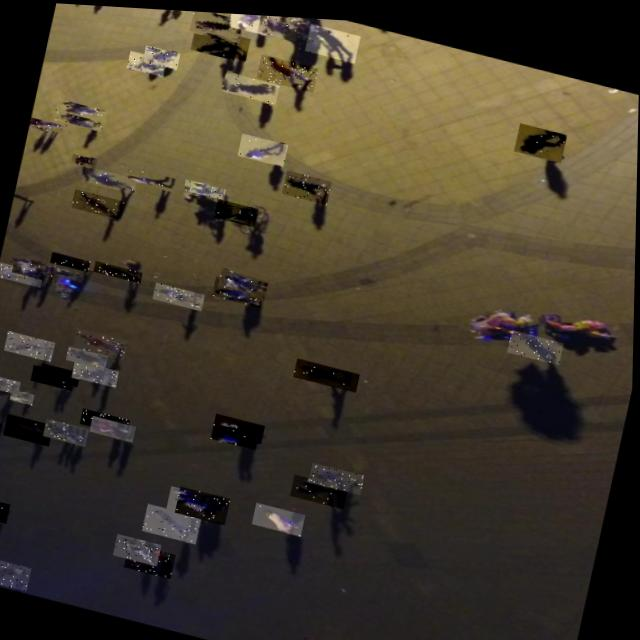Person: (145, 501, 204, 541), (257, 50, 319, 88), (295, 354, 362, 388), (514, 115, 568, 156), (177, 483, 233, 522), (305, 19, 361, 58), (292, 470, 352, 505), (509, 322, 565, 358), (168, 483, 224, 518), (222, 68, 280, 101), (126, 540, 179, 576), (310, 457, 367, 490), (254, 498, 308, 532), (199, 23, 251, 58), (74, 326, 130, 358), (238, 129, 289, 164), (282, 166, 333, 200), (5, 412, 56, 445), (72, 188, 127, 218), (190, 9, 245, 39), (213, 273, 266, 304), (83, 164, 139, 193), (215, 410, 268, 440), (116, 531, 164, 564), (6, 330, 57, 361), (219, 265, 271, 295), (154, 279, 206, 308), (212, 416, 262, 446), (121, 163, 177, 189), (54, 102, 106, 130), (82, 406, 132, 433), (215, 195, 260, 224), (191, 30, 239, 57), (73, 358, 121, 385), (45, 417, 91, 445), (91, 414, 138, 440), (13, 257, 61, 282), (32, 363, 77, 389), (0, 556, 34, 590), (0, 261, 45, 286), (61, 98, 108, 121), (127, 48, 167, 75), (95, 259, 144, 281), (41, 360, 83, 385), (258, 12, 300, 37), (68, 344, 110, 367), (142, 43, 181, 67), (185, 176, 229, 197), (229, 11, 271, 32), (51, 251, 92, 270), (11, 254, 49, 269), (30, 116, 65, 132), (0, 371, 23, 393), (72, 151, 98, 168), (12, 388, 38, 405), (0, 382, 16, 404), (0, 495, 12, 523), (0, 415, 5, 436)
